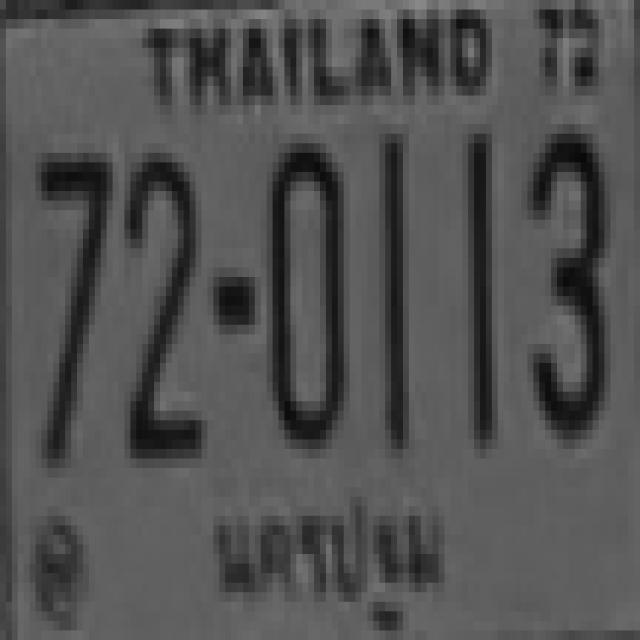0: (266, 134, 344, 439)
1: (462, 129, 492, 444), (376, 129, 406, 444)
2: (122, 148, 198, 454)
3: (528, 124, 604, 430)
7: (36, 144, 106, 458)
NakhonPathom: (194, 475, 458, 635)
